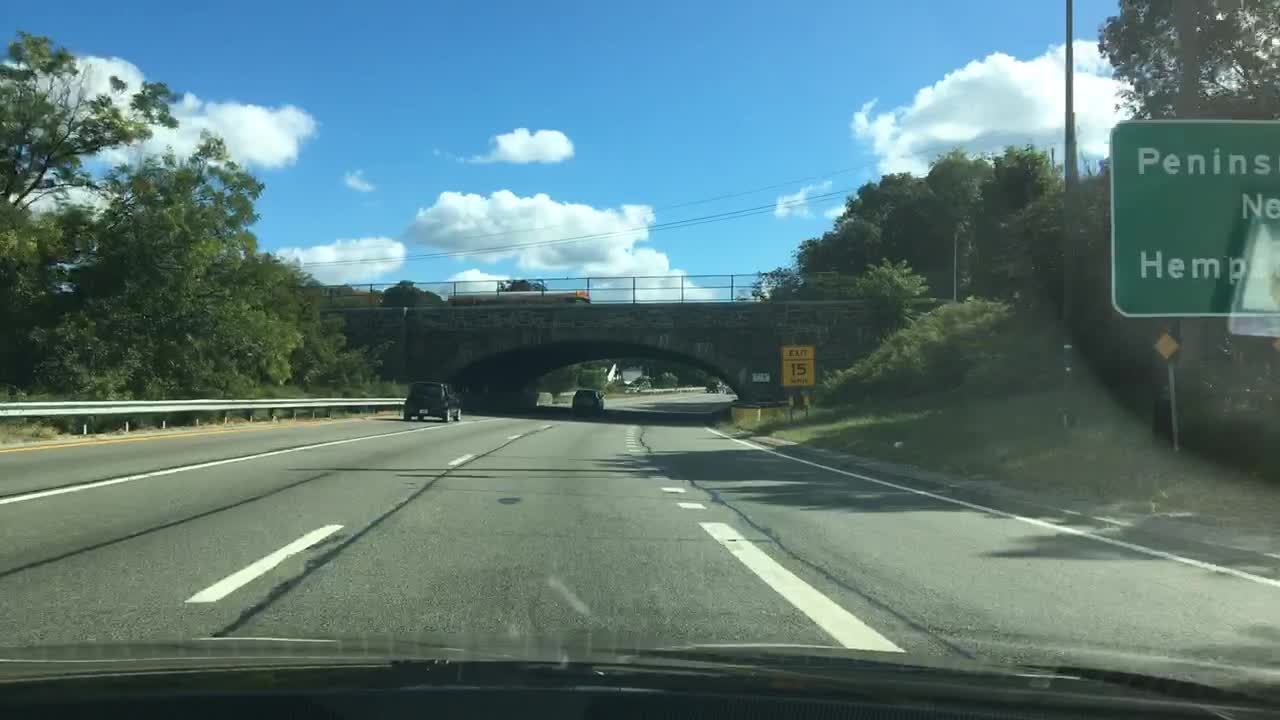bus: (449, 289, 594, 306), (317, 289, 380, 304)
car: (403, 379, 461, 423), (571, 388, 603, 413), (705, 378, 725, 393)
traffic sign: (1110, 115, 1279, 319), (779, 343, 816, 388), (1153, 331, 1178, 359), (751, 371, 769, 381)
